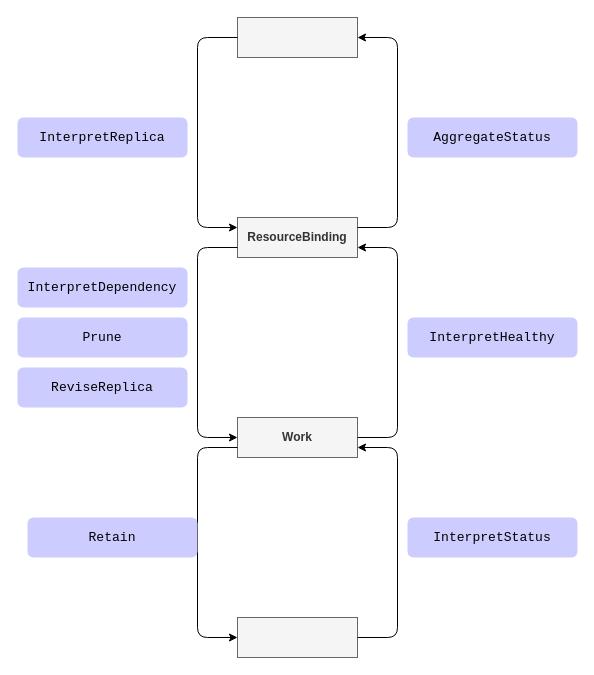
Some shapes in this 594 by 675 pixel diagram are drawn without their labels. The shapes that lost their labels are listed below. From the top down, each one's box as (x1, y1, x2, y2) in pixels, then its label:
(236, 16, 358, 58): ResourceTemplate
(236, 616, 358, 658): Resource (In member cluster)
